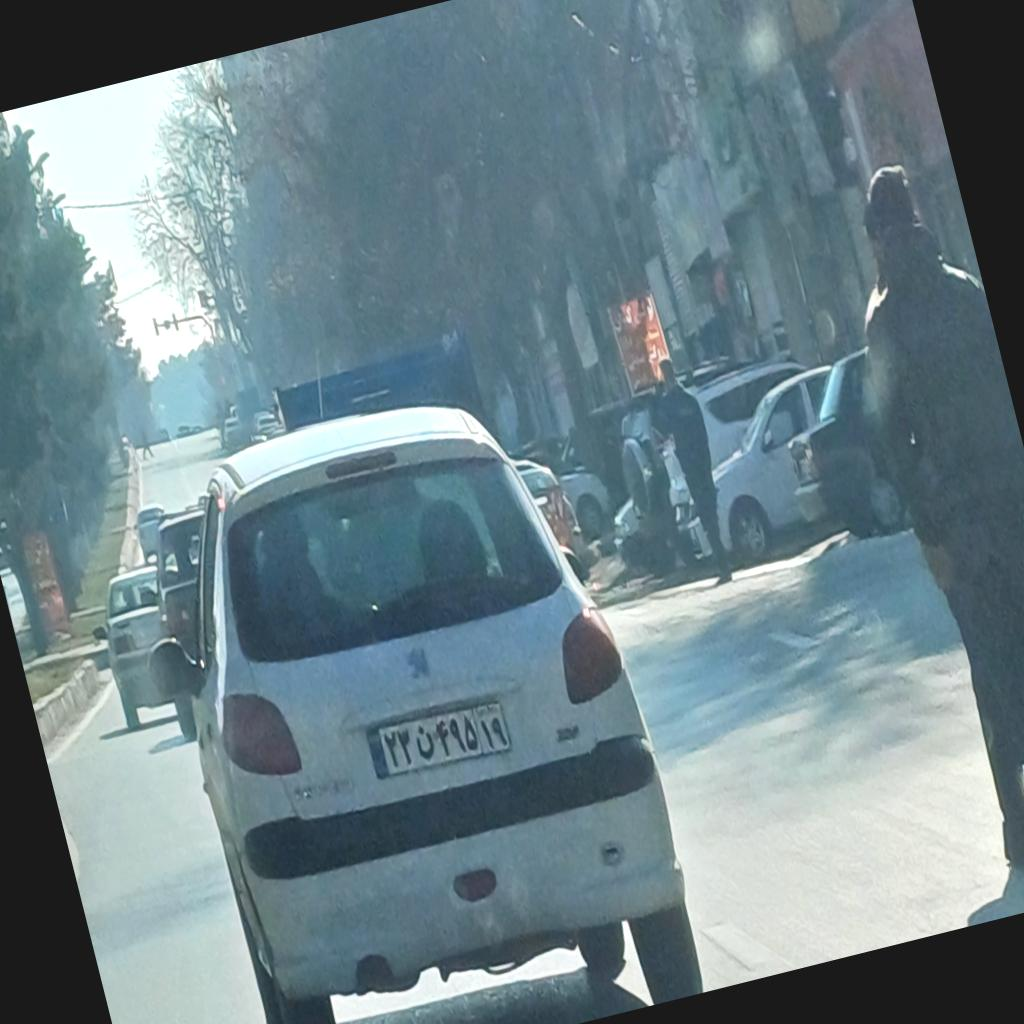Plates: (364, 694, 512, 782)
